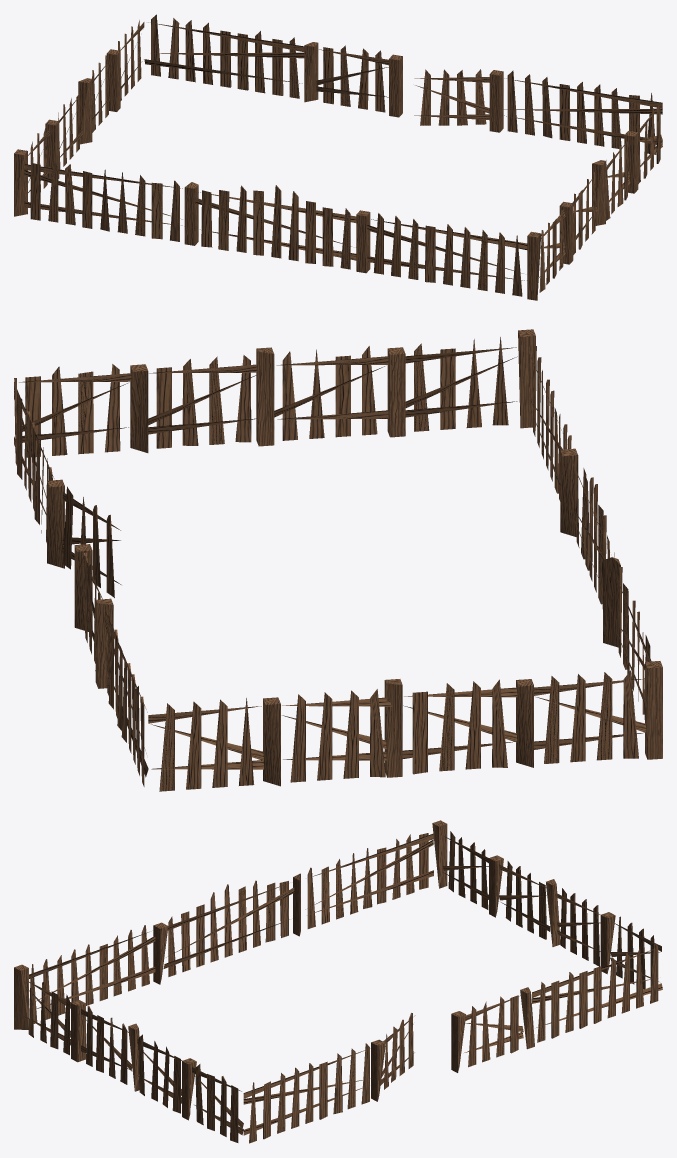
Rendered from FenceStyle1High.004_LOD2.fbx.
3 views of the same model, one above another, from view 1: azimuth 30°, elevation 25°; view 2: azimuth 150°, elevation 25°; view 3: azimuth 270°, elevation 25° (orthographic). The views are drawn at different scales.
Visible parts, largest first — view 1: FenceStyle1High_004; view 2: FenceStyle1High_004; view 3: FenceStyle1High_004.
Part boxes in pixels (left/top/right/bottom): FenceStyle1High_004: left=14, top=14, right=662, bottom=300; FenceStyle1High_004: left=14, top=329, right=662, bottom=791; FenceStyle1High_004: left=14, top=820, right=662, bottom=1143.
Bounding box in the file's own units: 885 × 113 × 922.
1 material, 1 textured.
